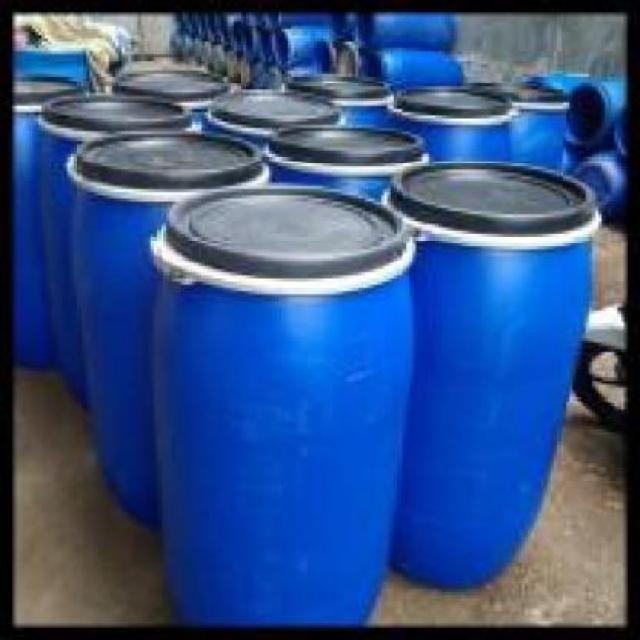garbage container: (148, 182, 397, 633), (380, 166, 598, 592)
